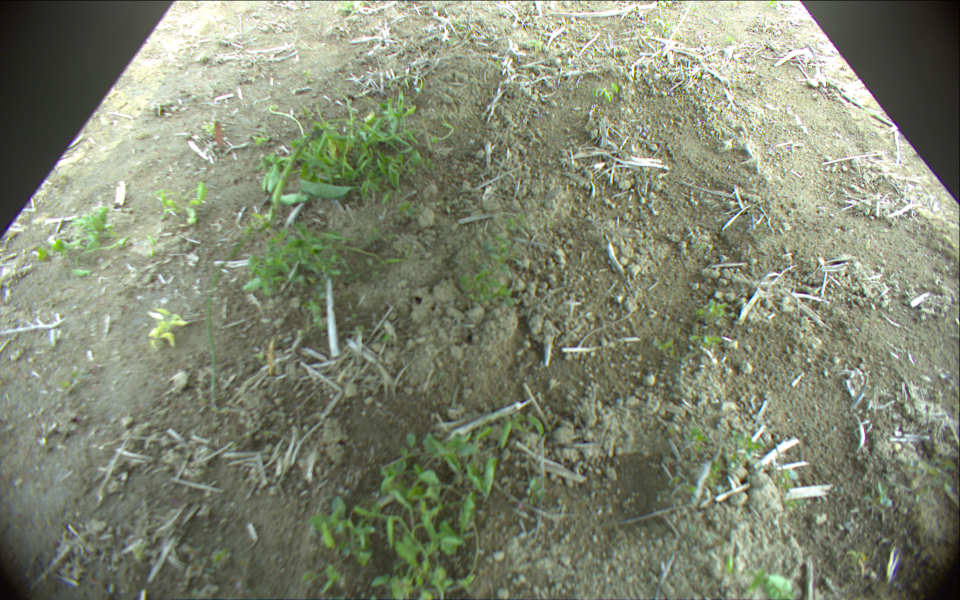aspa: (271, 128, 325, 205)
